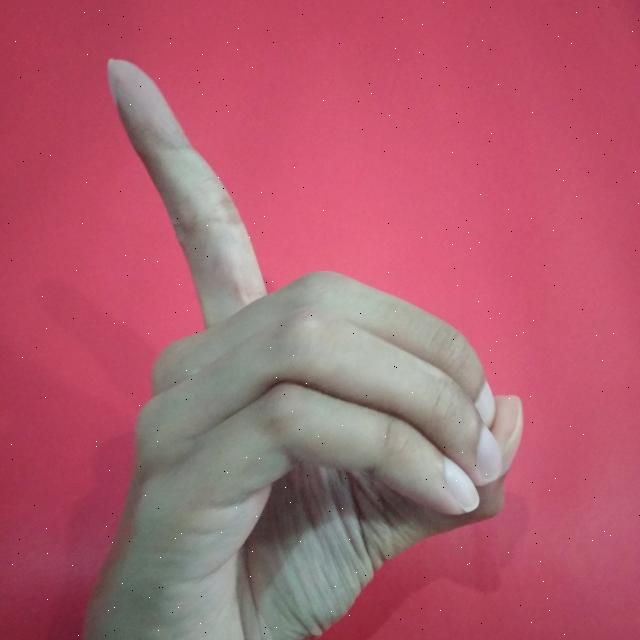D: (77, 56, 528, 640)
